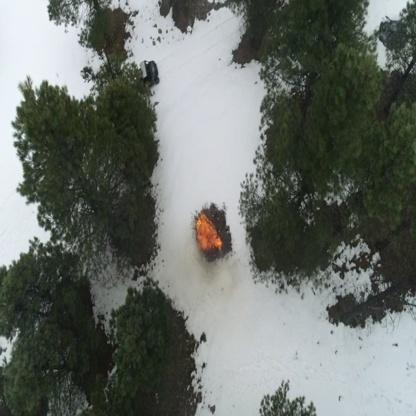Fire: (194, 211, 222, 254)
